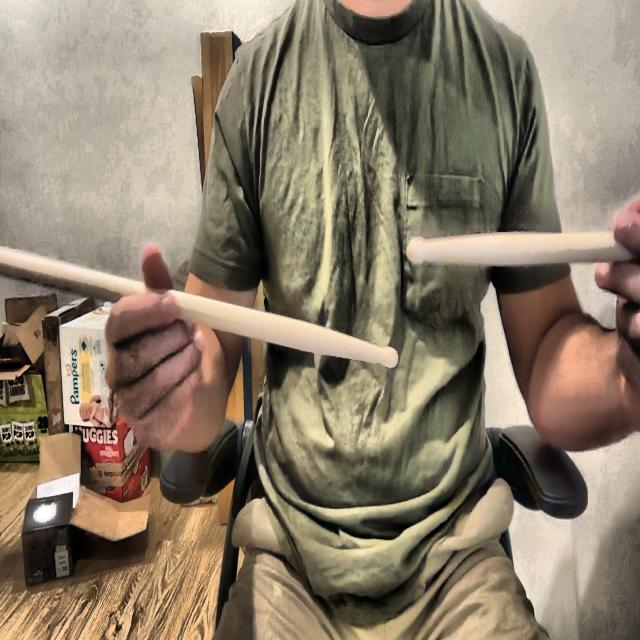Drumstick-Heads: (406, 223, 426, 271), (380, 339, 401, 374)
